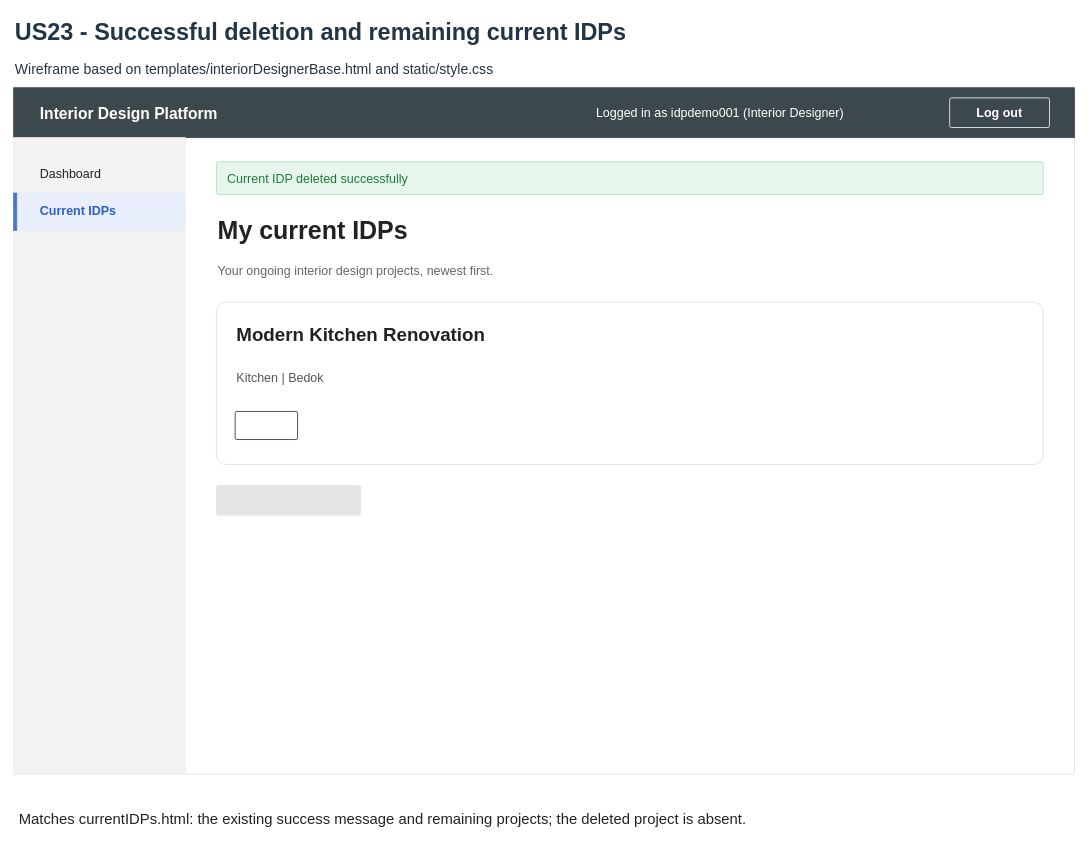
Some shapes in this 1088 by 846 pixel diagram are drawn without their labels. The shapes that lost their labels are listed below. From the top down, each one's box as (x1, y1, x2, y2) in pixels, then its label:
(234, 411, 298, 440): View
(216, 485, 361, 515): Back to dashboard
